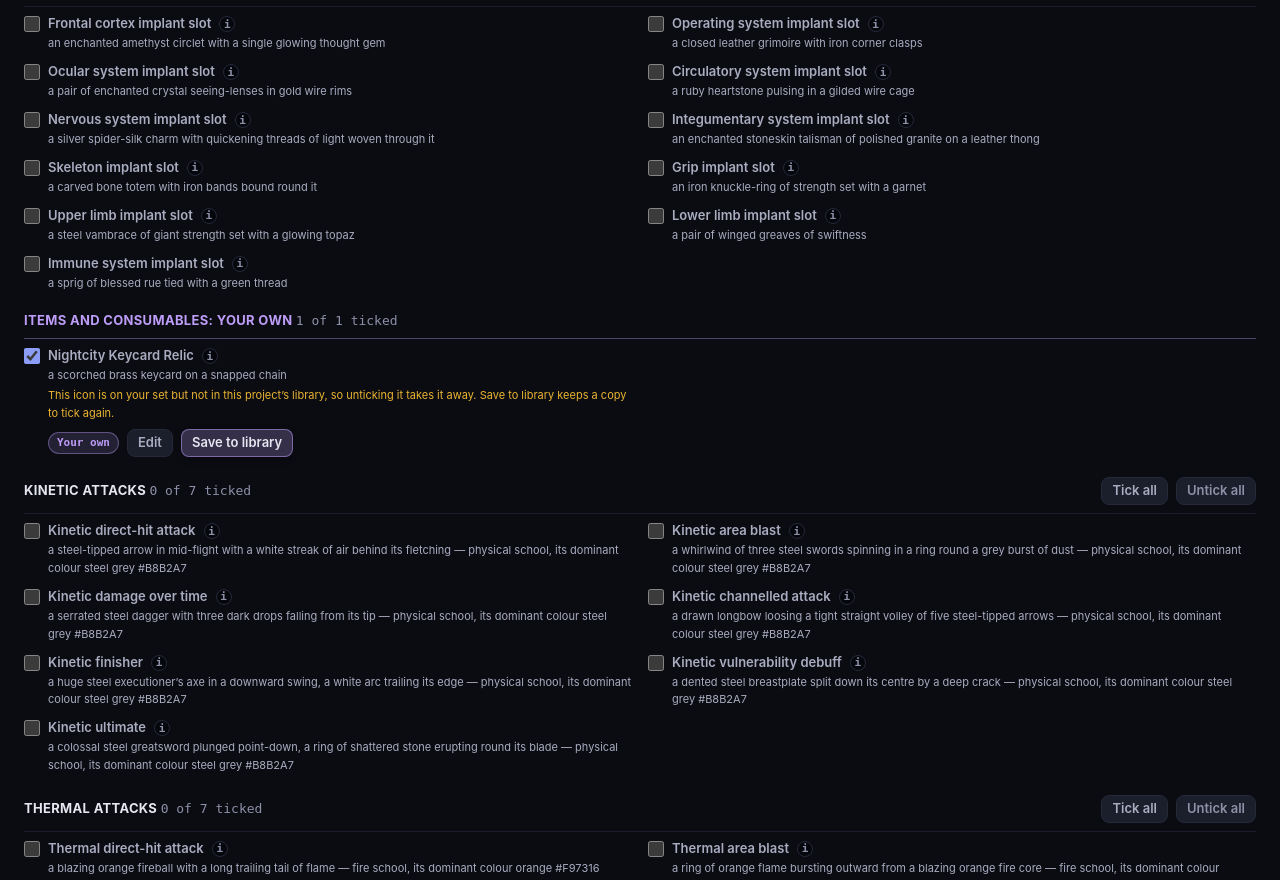
Test: the catalogue dialog’s own icons › closes a form whose entry Clear all takes off a set the library does not hold it for
The image size is (1280, 880).
(page scrolled)
Click the button "Edit".
click(150, 443)  # box [127,429,173,457]
(page scrolled)
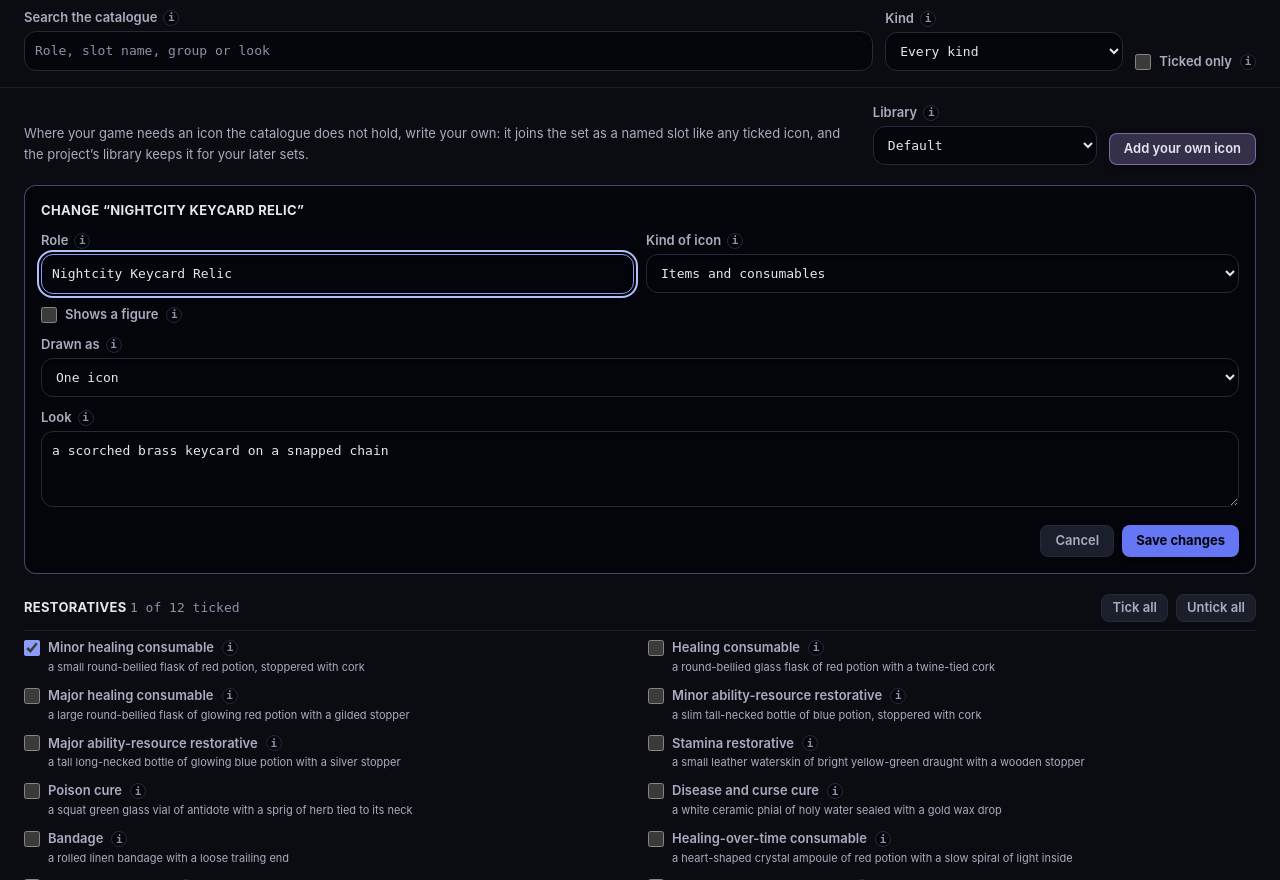
Type " and a chain" into the text box labelled "Look".
click(640, 469); type(" and a chain")  # box [41,431,1239,507]
(page scrolled)
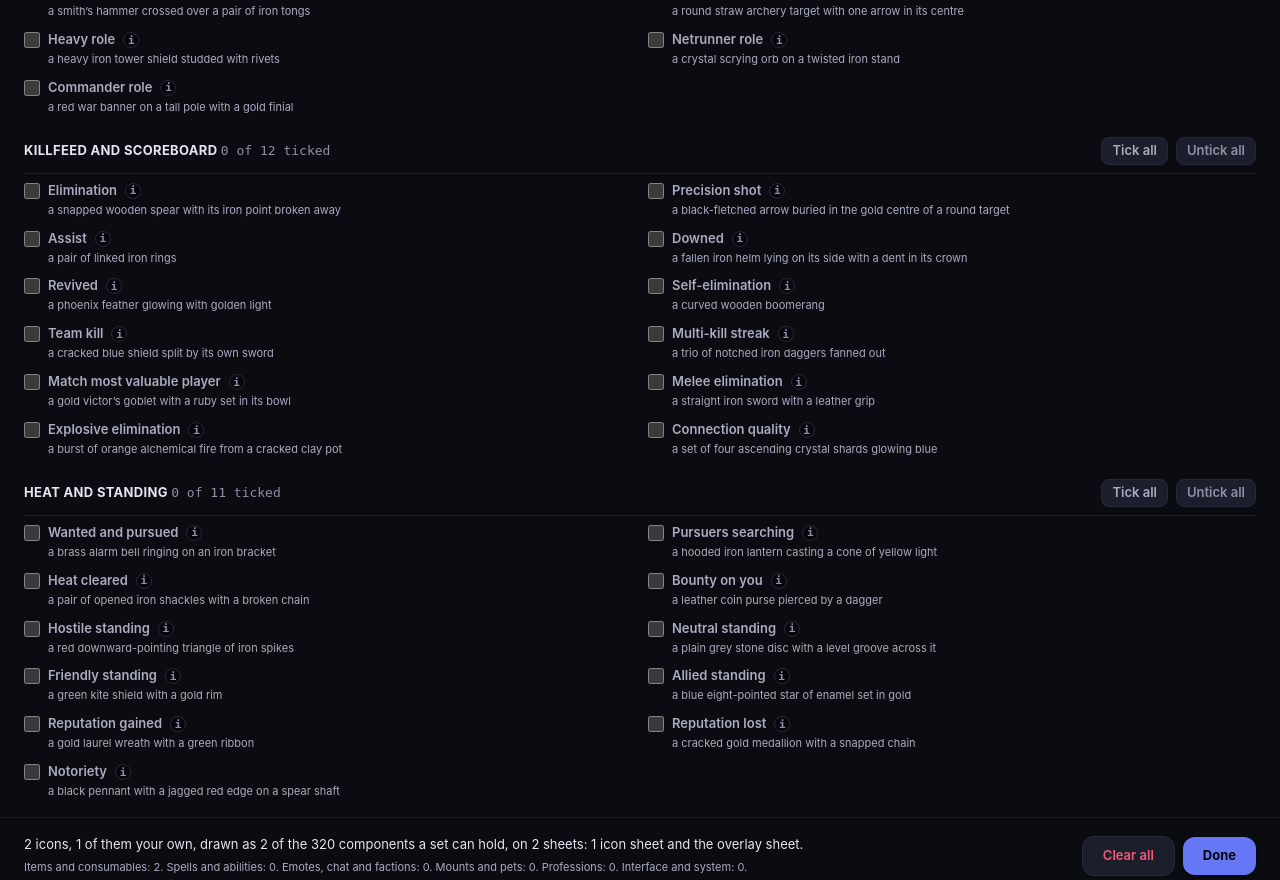
Click the button "Clear all".
click(1128, 856)  # box [1082,836,1175,876]
(page scrolled)
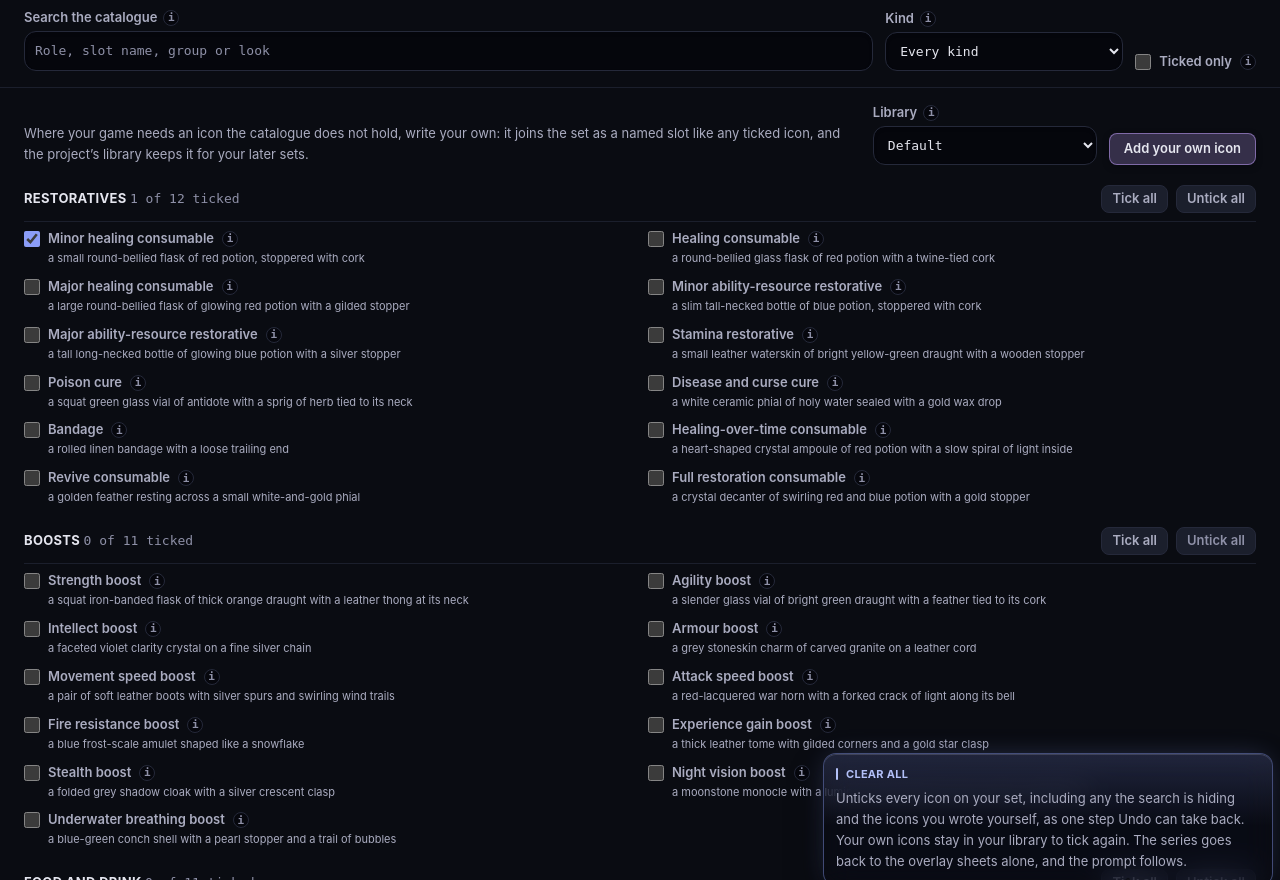
Now the button "Add your own icon" is collapsed, box [1109,133,1256,165]
